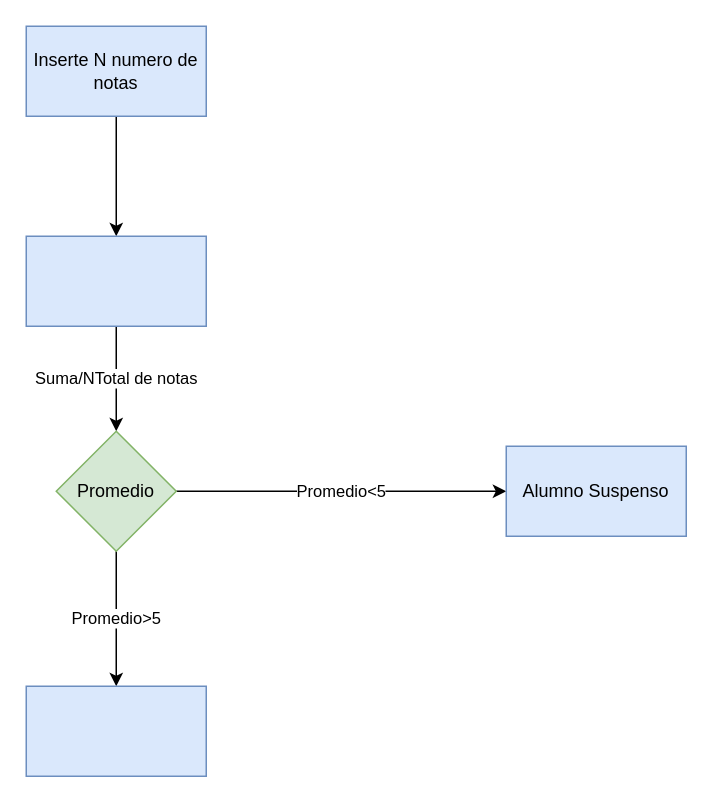
Some shapes in this 713 by 803 pixel diagram are drawn without their labels. Here are the shapes that lost their labels. From the top down, the centre of each, then its label:
pixel 115 280: Sumamos las notas
pixel 115 730: Alumno Aprobado
